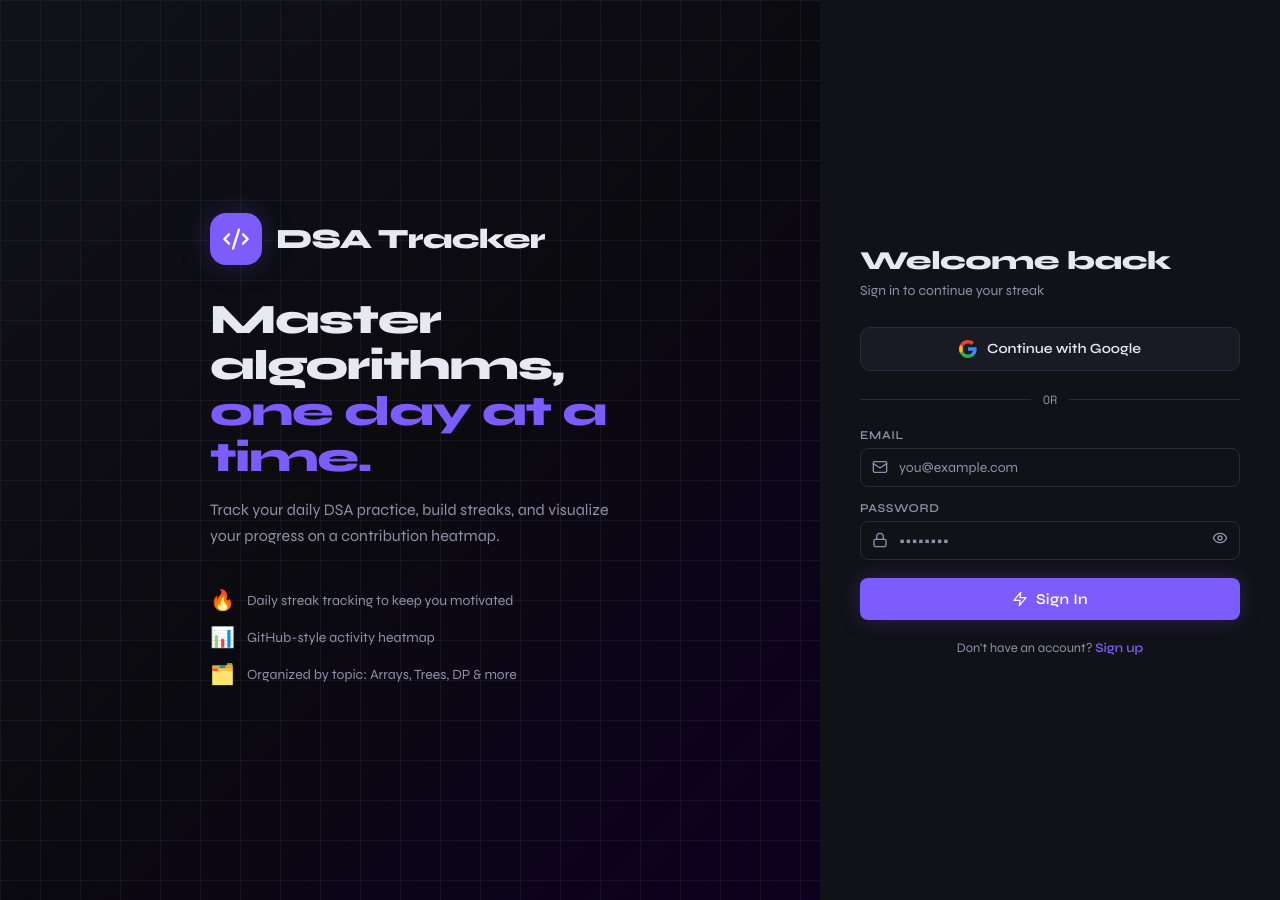
Scenario: LoginPage › switches back to login
Click the button "Sign up". click: (1119, 648)
box: [1095, 640, 1143, 656]
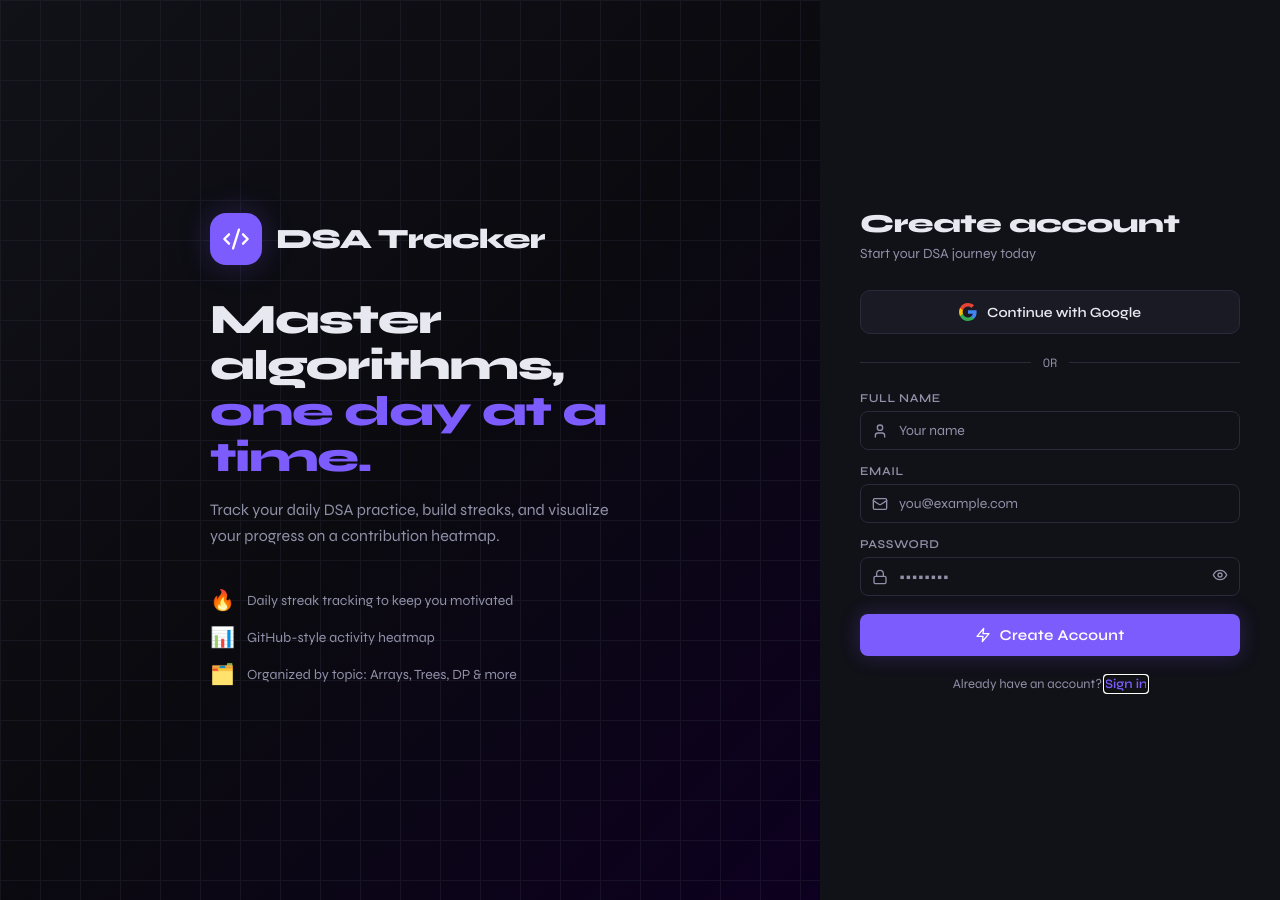
Click the button "Sign in". click: (1126, 684)
box: [1105, 676, 1147, 692]
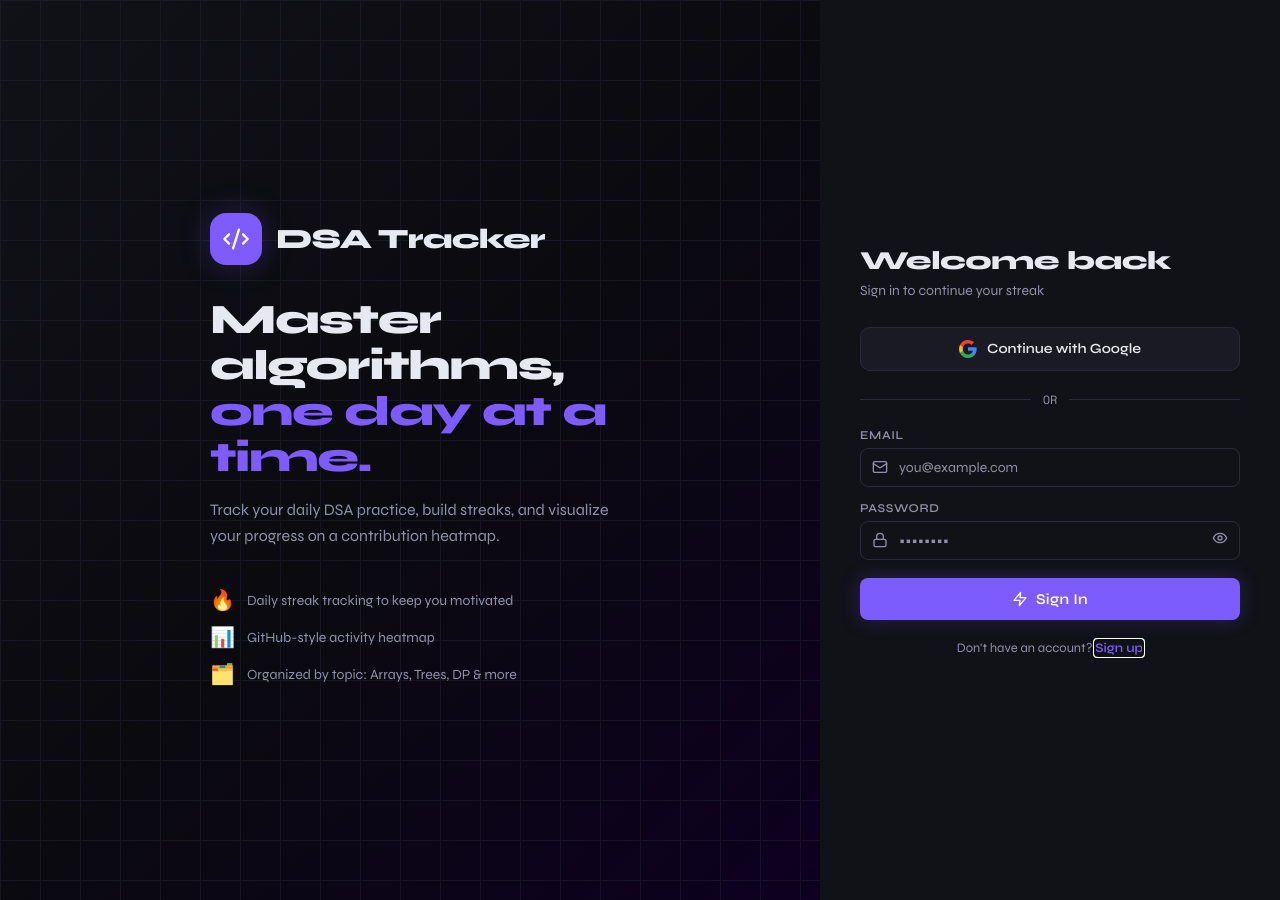
Check: the heading "Welcome back" is shown, box [860, 244, 1171, 276]
